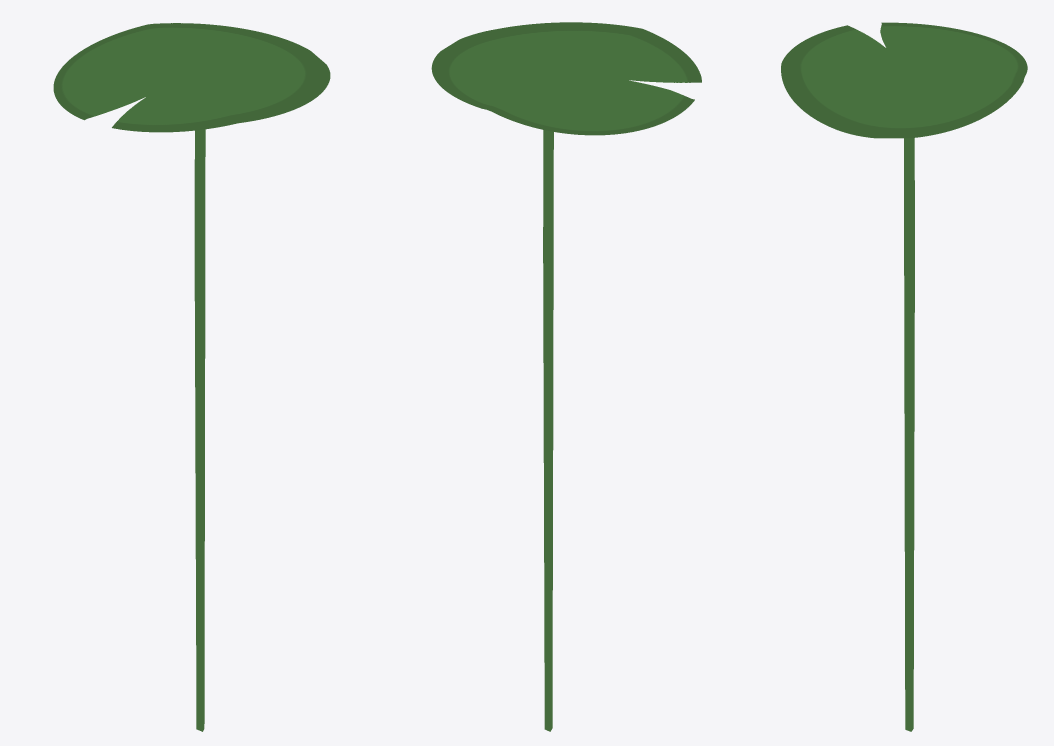
Rendered from PT_Waterlily_04.fbx.
3 renders of one model, left to right at view 1: azimuth 30°, elevation 25°; view 2: azimuth 150°, elevation 25°; view 3: azimuth 270°, elevation 25°, orthographic.
Visible parts, largest first — view 1: PT_WaterLily_04_LOD0; view 2: PT_WaterLily_04_LOD0; view 3: PT_WaterLily_04_LOD0.
Boxes of the visible parts, left/top/right/bottom form: PT_WaterLily_04_LOD0: left=53, top=23, right=330, bottom=731; PT_WaterLily_04_LOD0: left=431, top=22, right=701, bottom=731; PT_WaterLily_04_LOD0: left=781, top=22, right=1027, bottom=731.
Size of what is drawn, in the model's own units: 46.99 by 114 by 42.52.
